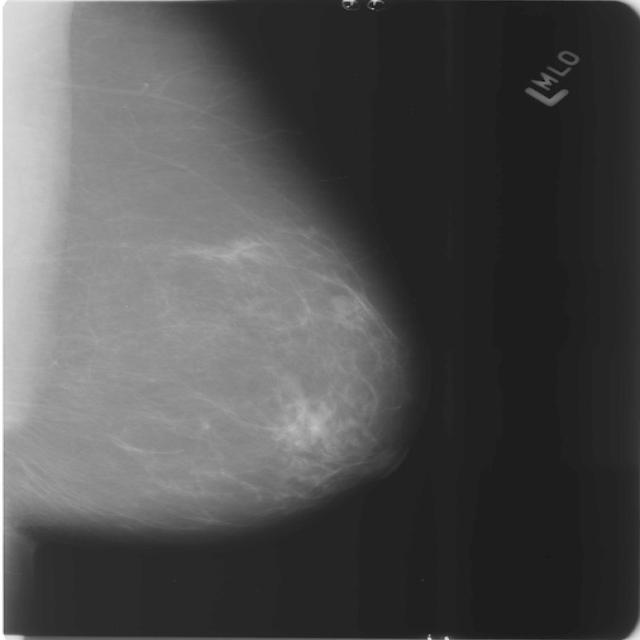tumour: (329, 293, 354, 315)
